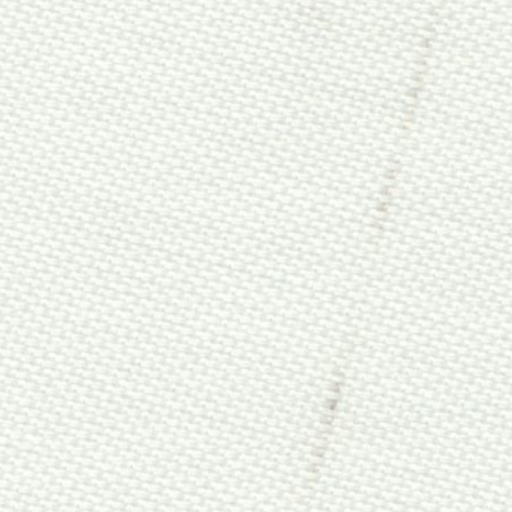WuZi: (292, 10, 444, 495)
